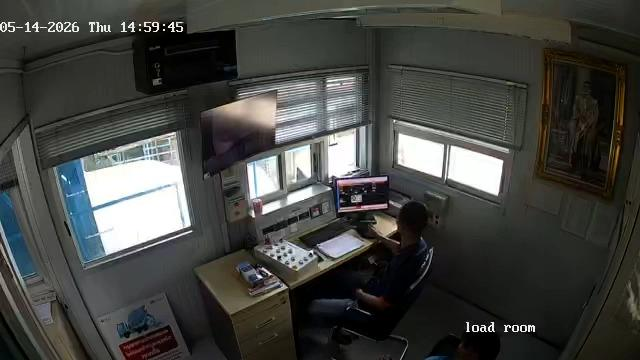Head: (394, 201, 430, 241), (456, 334, 501, 360)
People: (309, 201, 429, 322), (426, 332, 500, 359)
